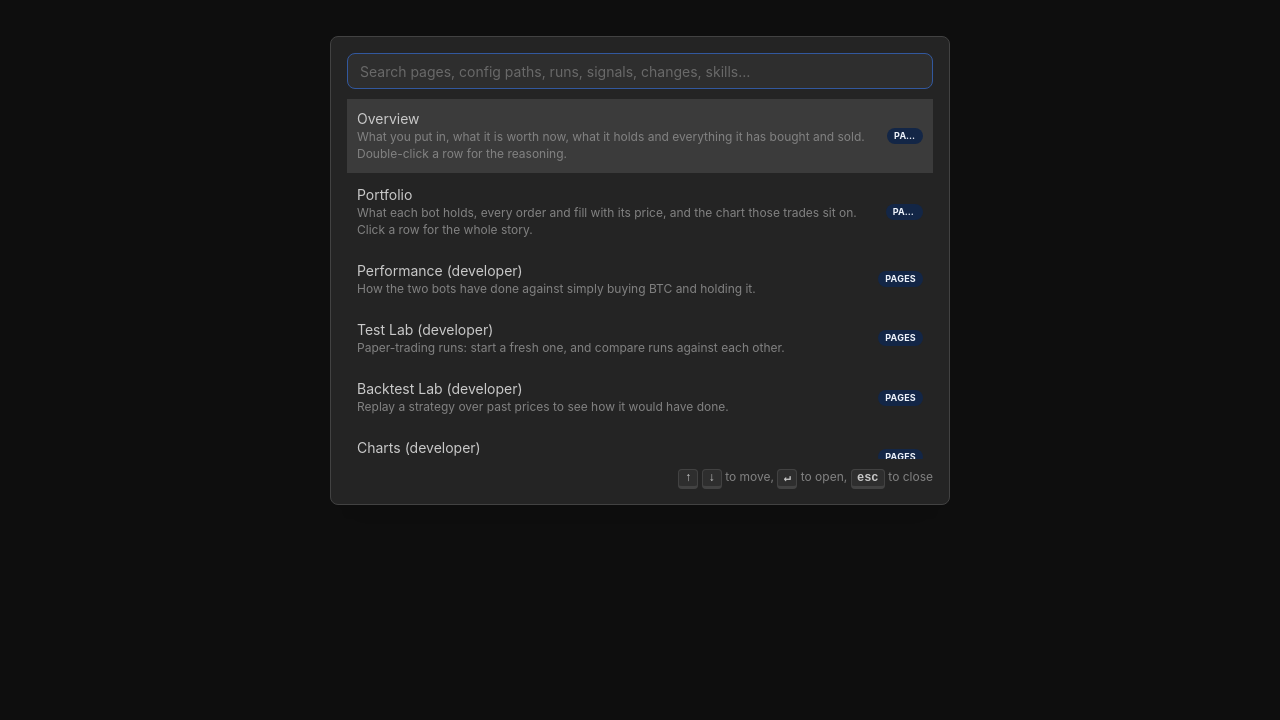
it: CommandPalette › keeps showing config, run and skill hits
Type "max_weight" into the field with test id "palette-input" at {"x": 640, "y": 71}, box [347,53,933,89]
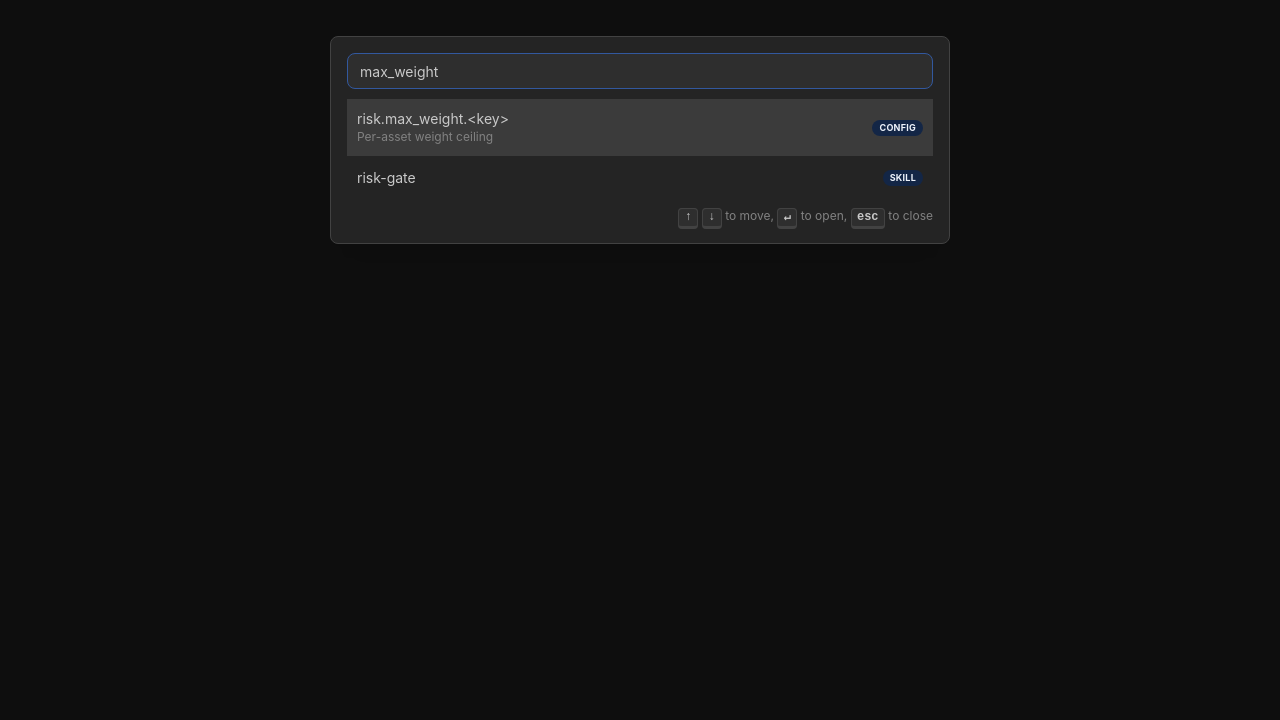
Now the button with test id "palette-item-hit:config:earn:risk.max_weight.<key>" is shown, box [347,99,933,156]
Now the button with test id "palette-item-hit:skill:risk-gate" is shown, box [347,158,933,198]
